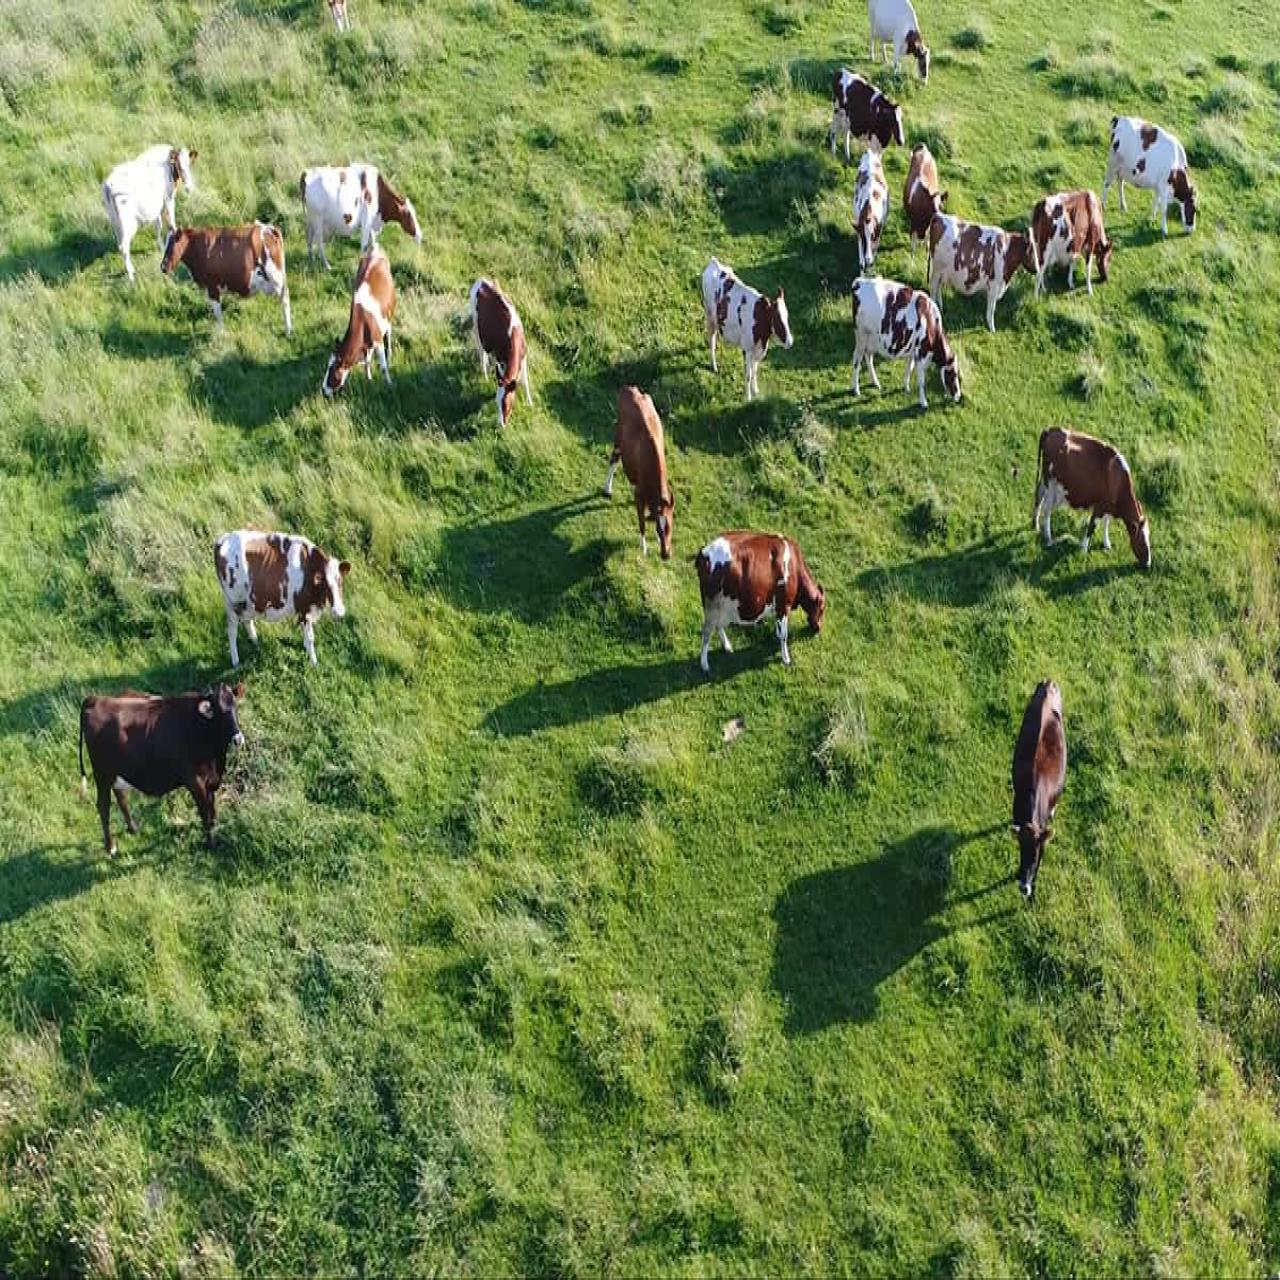cow: (60, 668, 254, 878), (203, 515, 362, 686), (674, 516, 831, 682), (1036, 422, 1165, 591), (843, 270, 967, 425), (163, 209, 300, 349), (1000, 669, 1070, 903), (695, 251, 799, 402), (912, 209, 1033, 339), (607, 382, 692, 567), (294, 157, 420, 281), (102, 132, 206, 280), (328, 240, 410, 402), (1103, 111, 1205, 238), (468, 272, 544, 434), (830, 68, 908, 185), (1035, 189, 1118, 299), (859, 0, 944, 91), (845, 138, 890, 274), (903, 136, 945, 229)
